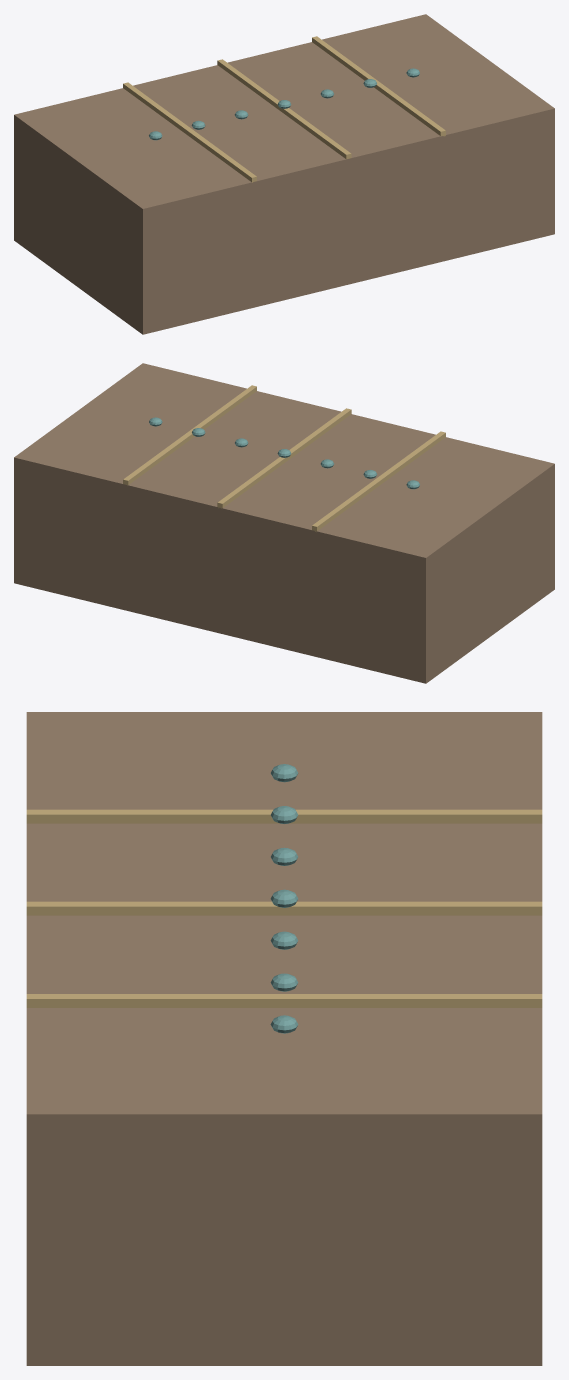
File: PR-CLOUDBOX.glb
The picture shows the model from 3 angles, top to bottom: view 1: azimuth 30°, elevation 25°; view 2: azimuth 150°, elevation 25°; view 3: azimuth 270°, elevation 25°; orthographic projection. The views are drawn at different scales.
Parts seen in each view (by area): view 1: box, copper_inlay (×3); view 2: box, copper_inlay (×3); view 3: box, copper_inlay (×3).
Part boxes in pixels (x1=…): box: x1=14, y1=14, x2=554, y2=334; copper_inlay (×3): x1=123, y1=36, x2=445, y2=182; box: x1=14, y1=363, x2=554, y2=683; copper_inlay (×3): x1=123, y1=385, x2=445, y2=532; box: x1=26, y1=712, x2=542, y2=1365; copper_inlay (×3): x1=26, y1=809, x2=542, y2=1007.
Size of the model in its own units: 0.24 by 0.076 by 0.13.
